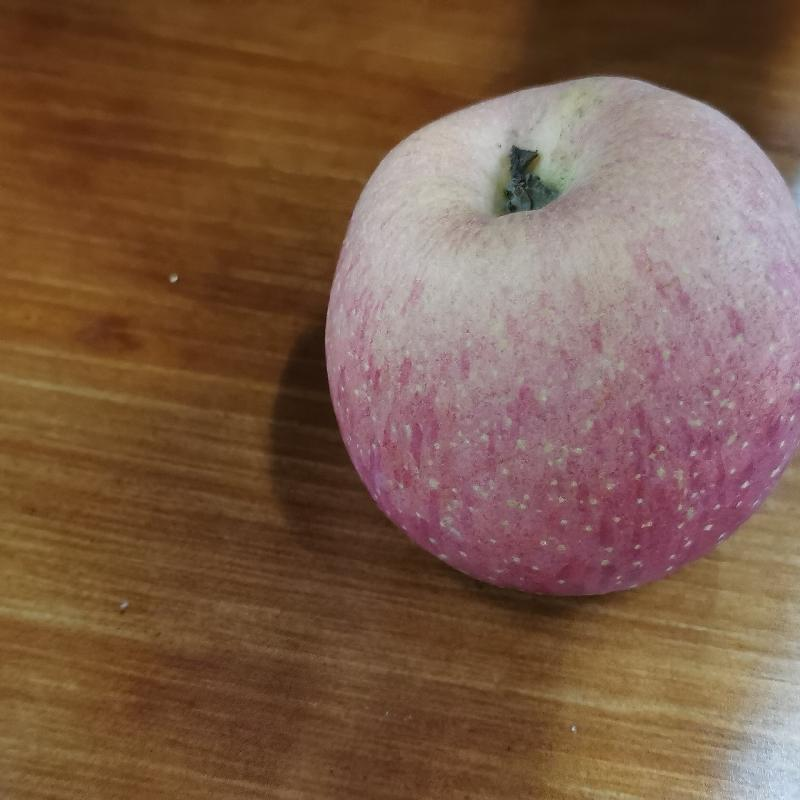apples: (314, 71, 800, 611)
